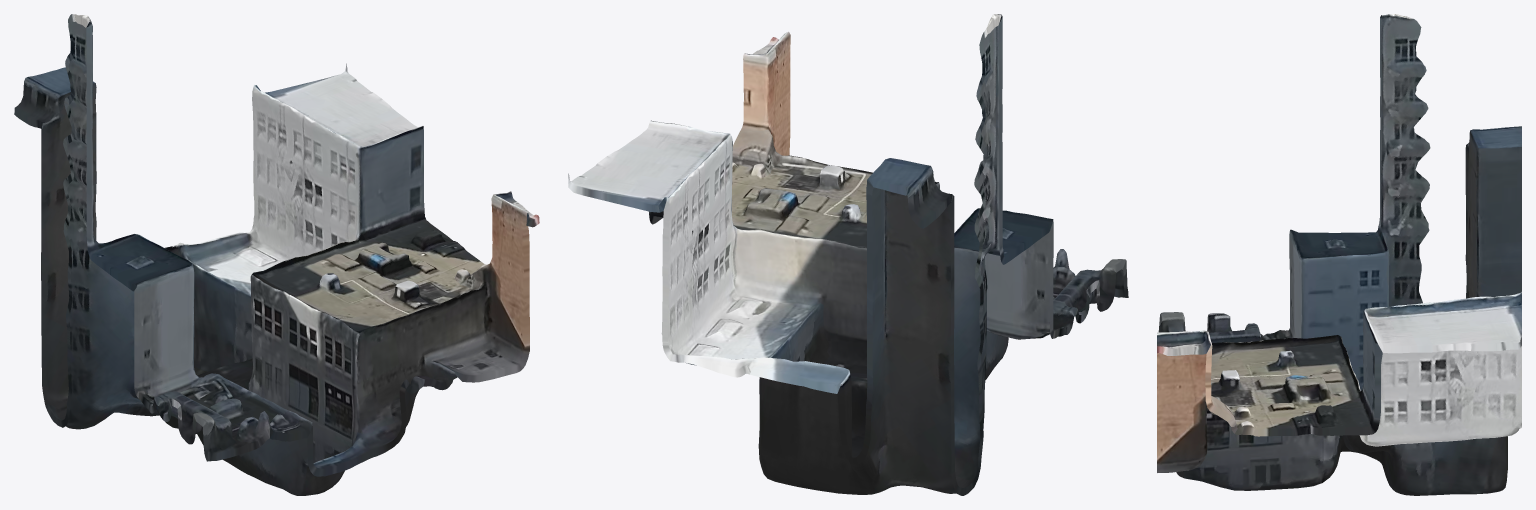
File: z20-167745-405245-h0-yup-uvflip-v3-world.glb
The picture shows the model from 3 angles, left to right: view 1: azimuth 30°, elevation 25°; view 2: azimuth 150°, elevation 25°; view 3: azimuth 270°, elevation 25°; orthographic projection. The views are drawn at different scales.
Bounding box in the file's own units: 30.24 × 37.8 × 30.32.
1 material, 1 textured.
